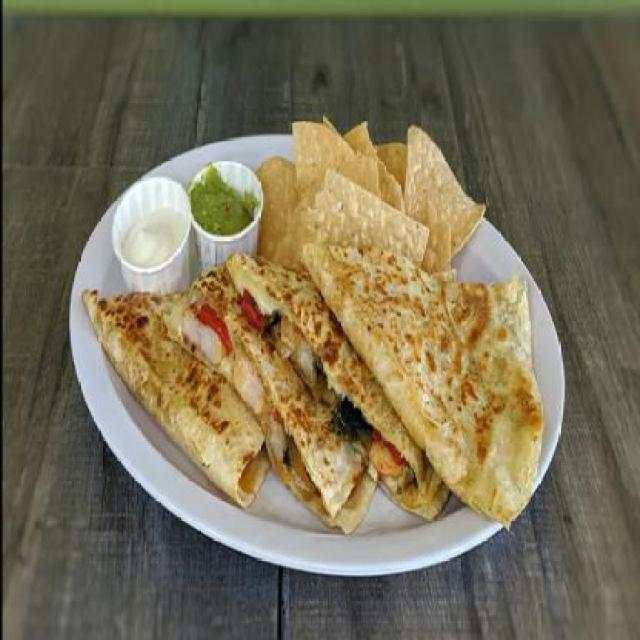chicken quesadilla: (80, 278, 540, 532)
guacamole: (188, 149, 266, 263)
nachos: (259, 100, 486, 297)
